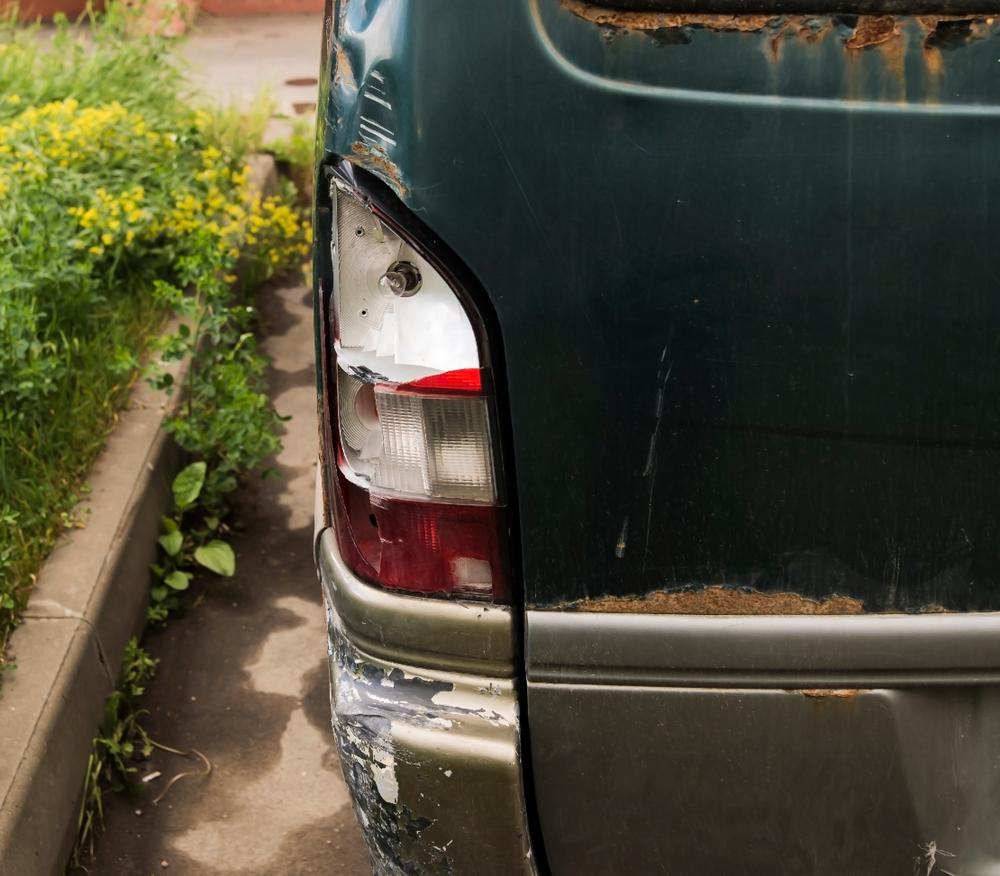dent: (325, 0, 411, 199)
lamp broken: (322, 174, 513, 607)
scratch: (328, 612, 505, 876)
